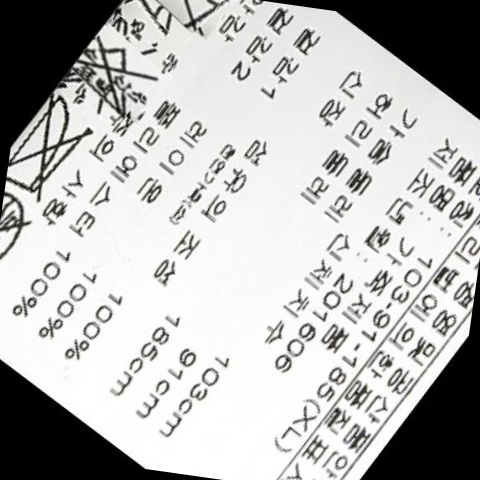DN_bleach: (67, 34, 160, 113)
DN_iron: (6, 99, 96, 201)
